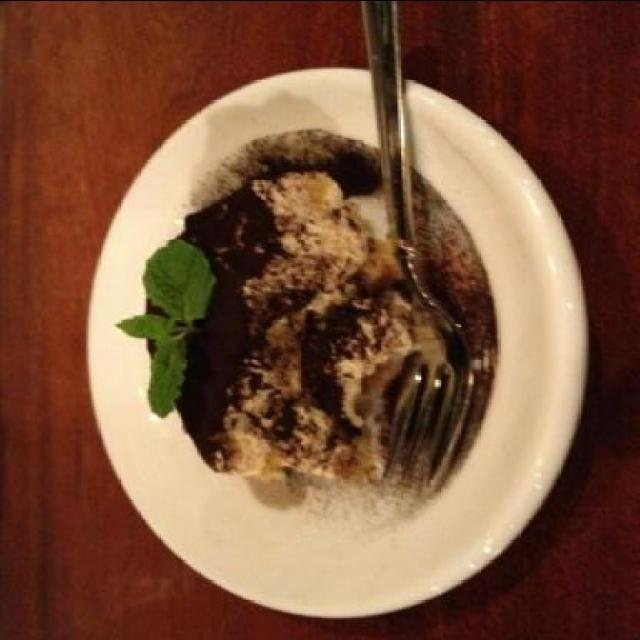Tiramisu: (176, 178, 387, 478)
